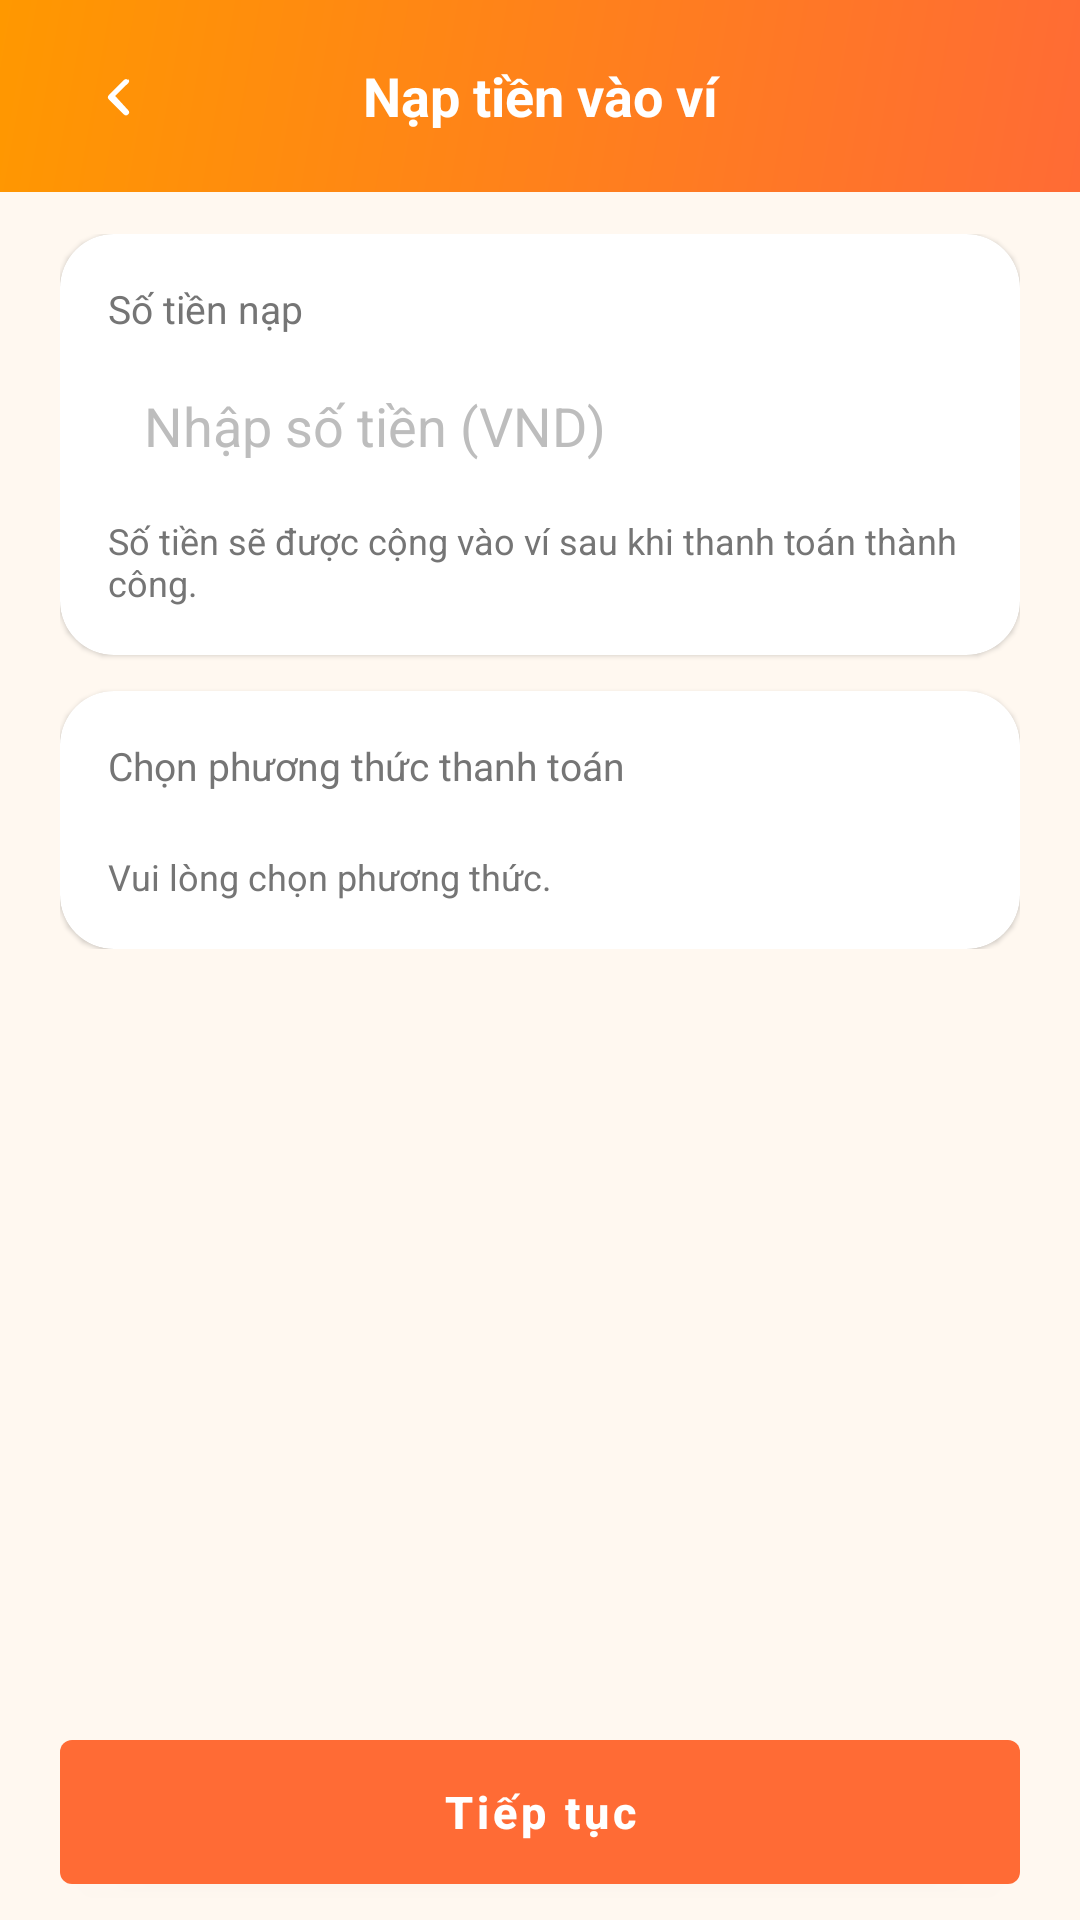

Named icons in this screenshot (1080 × 1920) and their centers, (x,y):
chevron left: (118,97)
